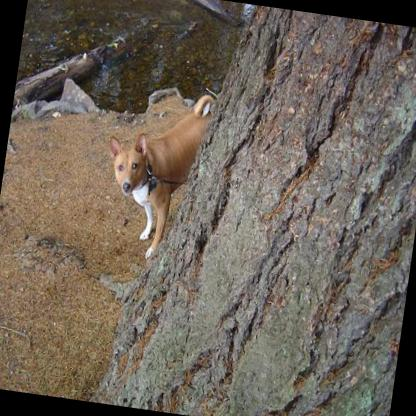basenji: (92, 80, 211, 268)
